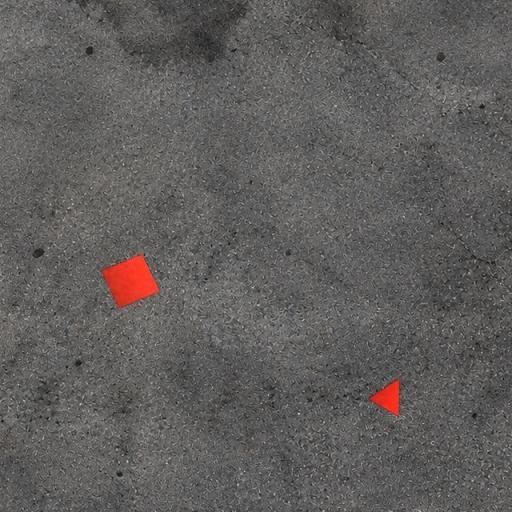RED_SQUARE: (101, 254, 161, 310)
